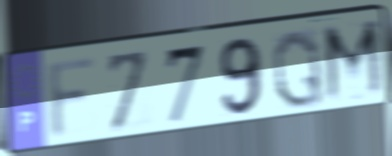7: (105, 46, 152, 135), (160, 43, 209, 125)
9: (218, 35, 264, 119)
F: (45, 52, 100, 145)
M: (321, 16, 388, 107)
Q: (270, 27, 326, 111)
